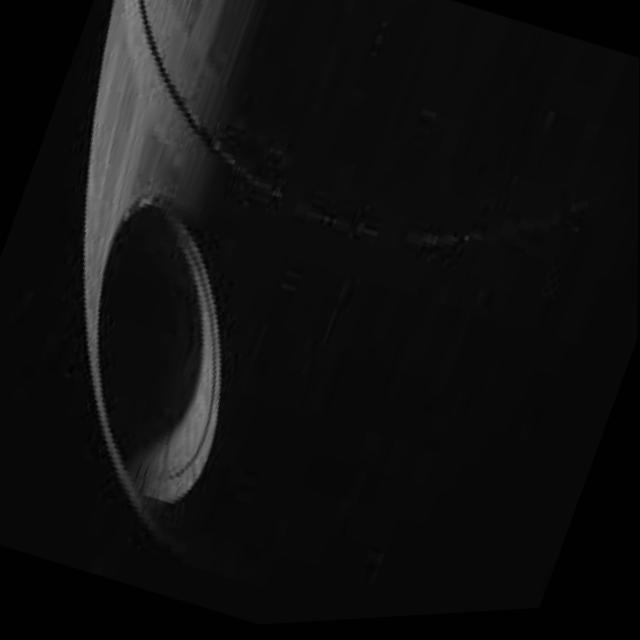death-stars: (84, 0, 631, 579)
